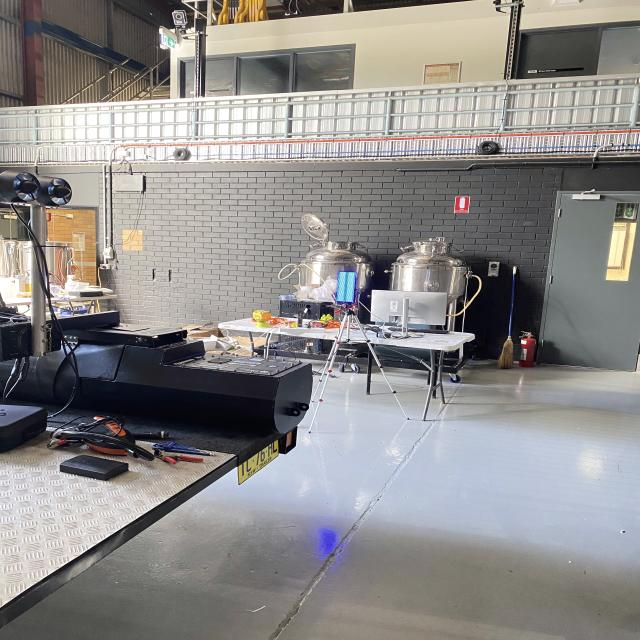matrix: (334, 270, 360, 304)
